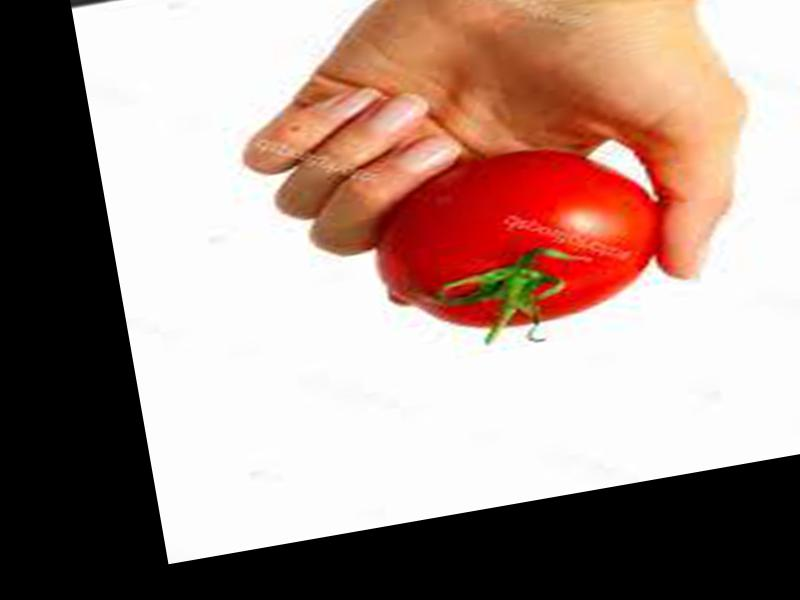Tomato: (368, 129, 672, 349)
